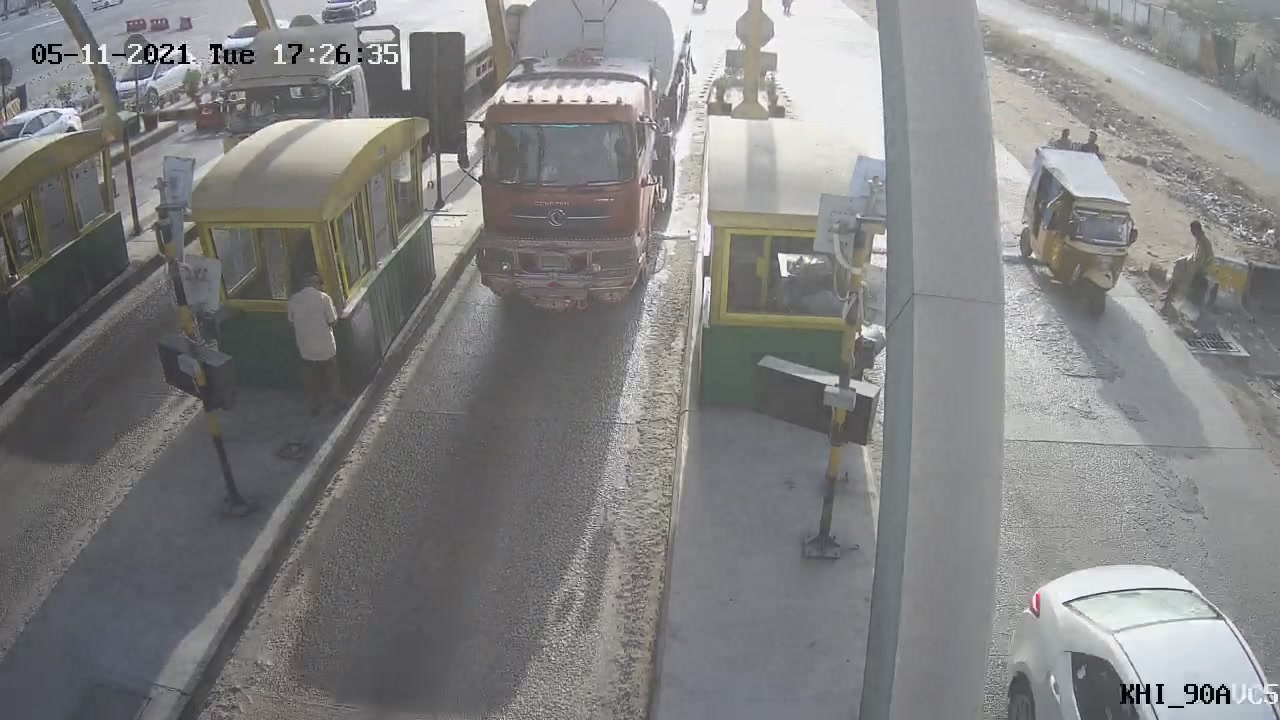F6: (440, 1, 709, 336)
